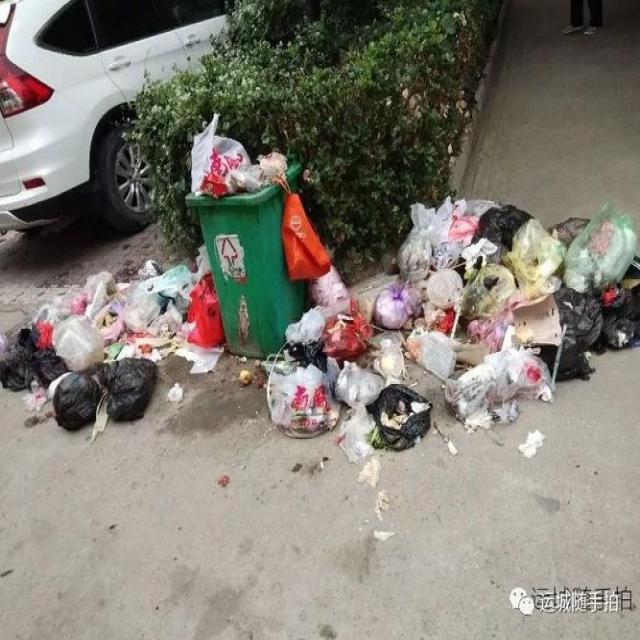garbage: (238, 192, 639, 540), (0, 242, 225, 443)
overflow: (189, 120, 329, 358)
